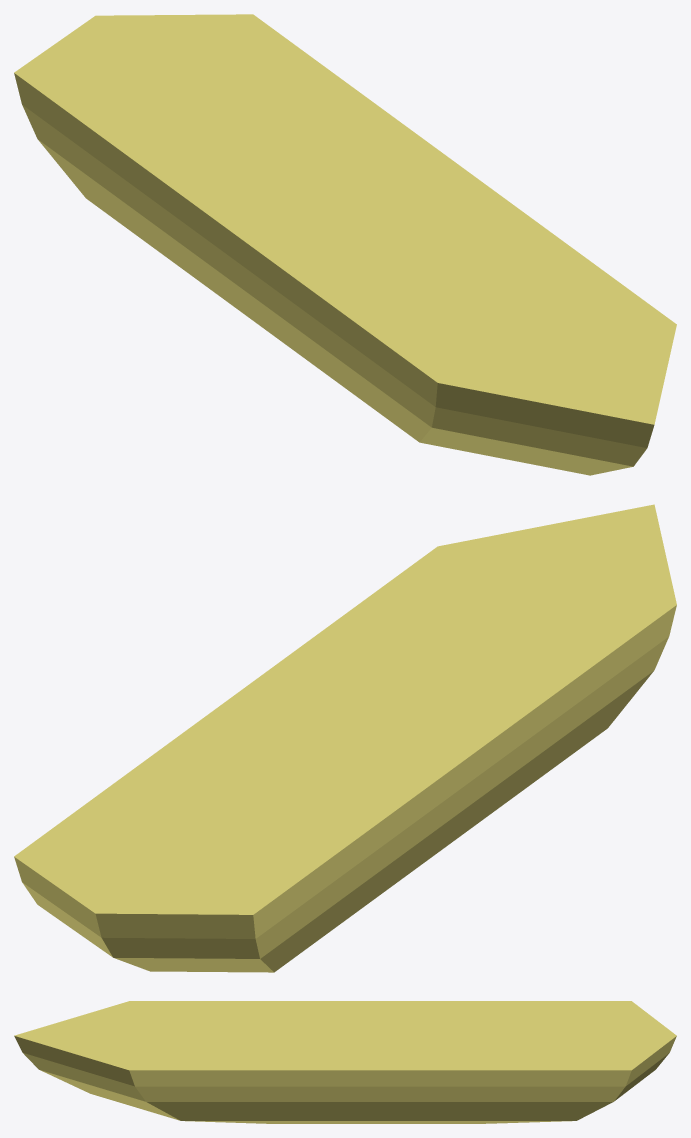
The model's file is barchetta_fractioned_boat.fbx.
3 views of the same model, one above another, from view 1: azimuth 30°, elevation 25°; view 2: azimuth 150°, elevation 25°; view 3: azimuth 270°, elevation 25° (orthographic). The views are drawn at different scales.
Parts seen in each view (by area): view 1: barca; view 2: barca; view 3: barca.
Boxes of the visible parts, x1,y1,x2,y2 form: barca: [14, 14, 676, 475]; barca: [14, 504, 676, 972]; barca: [14, 1001, 676, 1123].
Bounding box in the file's own units: 780 × 401 × 3156.
